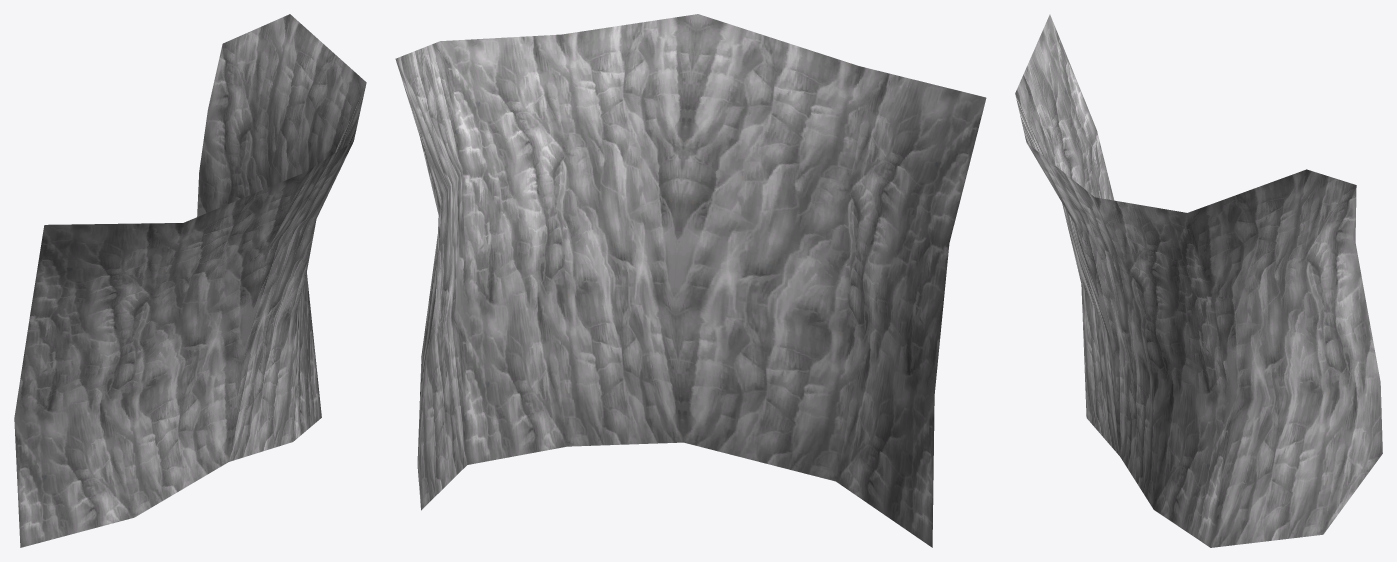
The model's file is SWORDLIGHT20_PS-AREA03_76.fbx.
The picture shows the model from 3 angles, left to right: view 1: azimuth 30°, elevation 25°; view 2: azimuth 150°, elevation 25°; view 3: azimuth 270°, elevation 25°; orthographic projection. The views are drawn at different scales.
Visible parts, largest first — view 1: SWORDLIGHT20_PS-AREA03_76; view 2: SWORDLIGHT20_PS-AREA03_76; view 3: SWORDLIGHT20_PS-AREA03_76.
Part boxes in pixels (x1,y1,x2,y2): SWORDLIGHT20_PS-AREA03_76: (14, 14, 366, 547); SWORDLIGHT20_PS-AREA03_76: (395, 14, 986, 547); SWORDLIGHT20_PS-AREA03_76: (1015, 14, 1382, 547).
Bounding box in the file's own units: 136020 × 128244 × 106258.
1 material, 1 textured.
